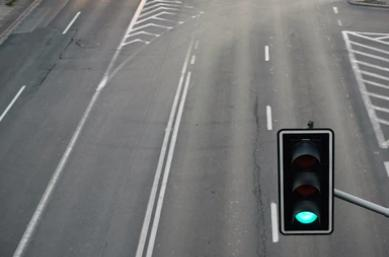green_light: (277, 128, 335, 235)
